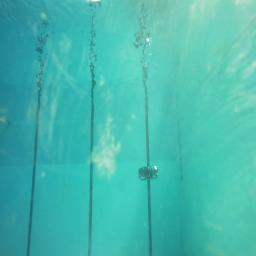front: (138, 166, 158, 180)
